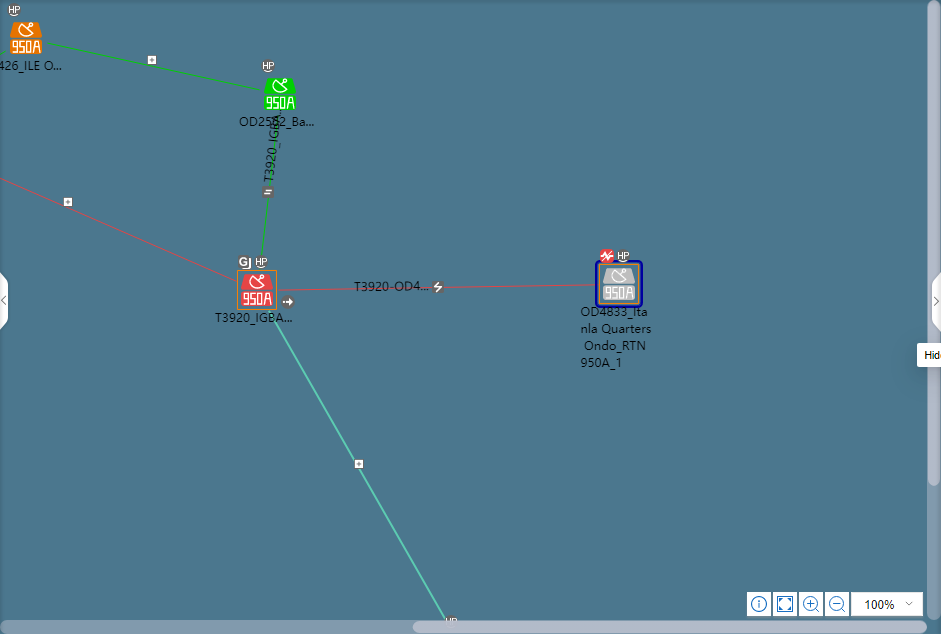Link_Blue: (267, 311, 449, 621)
Link_Green: (48, 41, 260, 93), (258, 116, 281, 268)
Link_Red: (279, 283, 593, 292)
RTN_Gray: (600, 267, 635, 302)
RTN_Green: (264, 78, 296, 110)
RTN_Orange: (10, 22, 41, 53)
RTN_Red: (240, 273, 273, 307)
